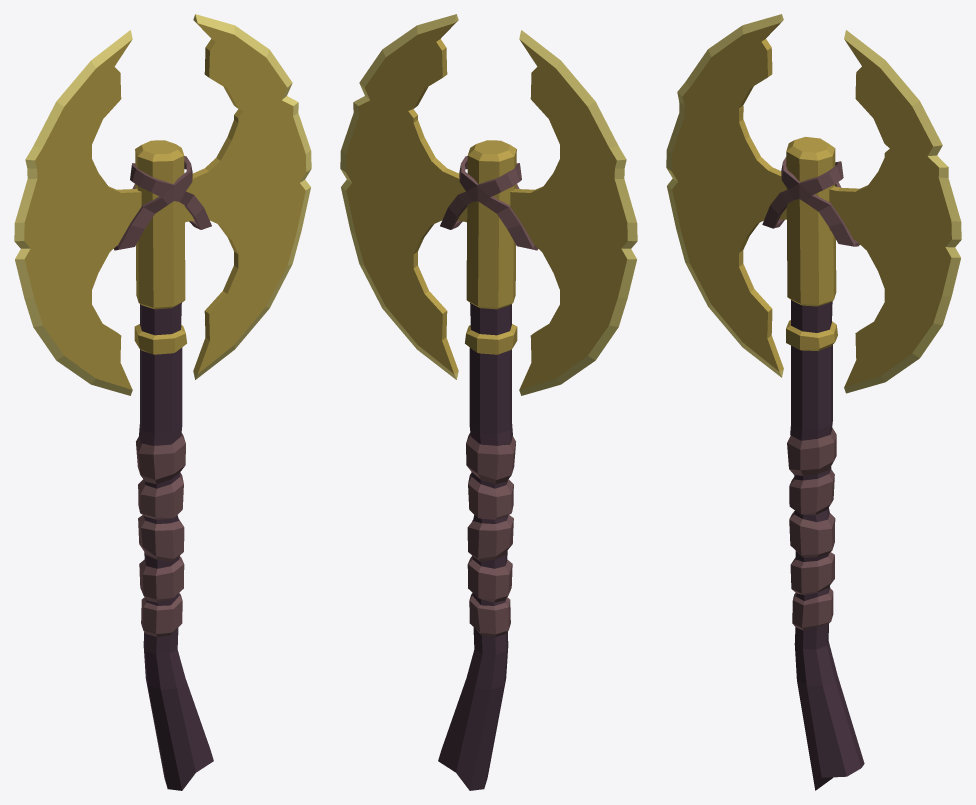
The model's file is Axe_Double_Golden.glb.
3 views of the same model, side by side, from view 1: azimuth 30°, elevation 25°; view 2: azimuth 150°, elevation 25°; view 3: azimuth 330°, elevation 25° (orthographic).
Visible parts, largest first — view 1: Axe_Double_Golden; view 2: Axe_Double_Golden; view 3: Axe_Double_Golden.
Boxes of the visible parts, box(x1,y1,x2,y2) form: Axe_Double_Golden: box(14, 14, 311, 790); Axe_Double_Golden: box(340, 14, 637, 790); Axe_Double_Golden: box(666, 14, 961, 790).
Bounding box in the file's own units: 0.8712 × 2.15 × 0.1355.
